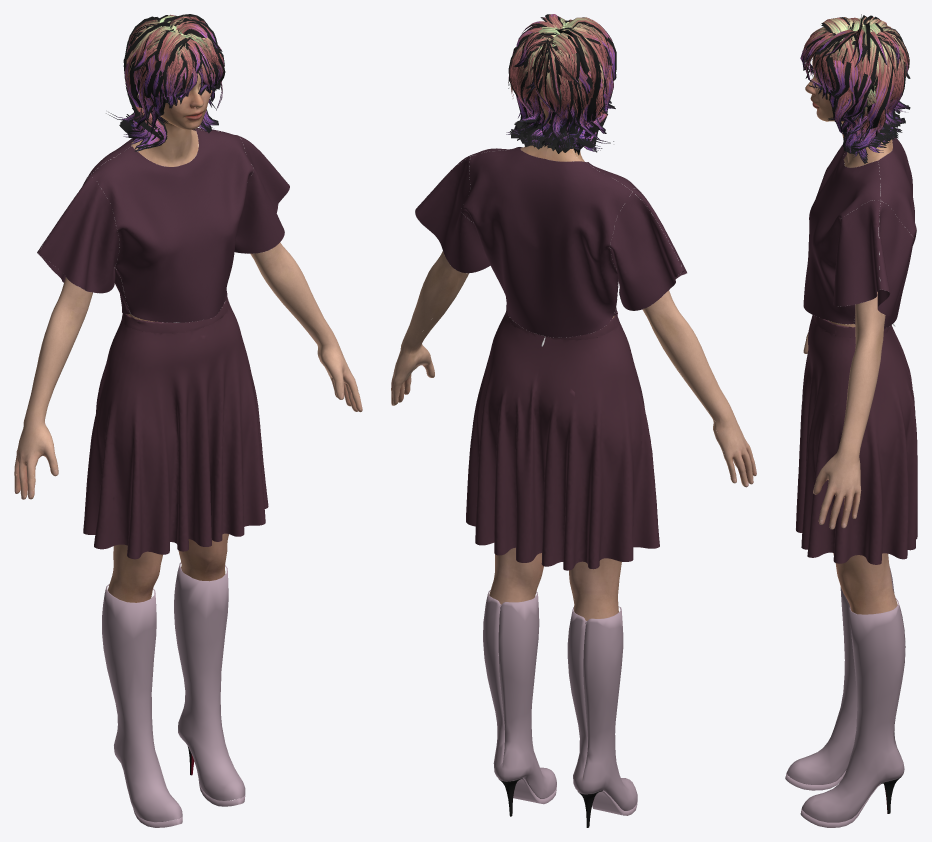
3 views of the same model, side by side, from view 1: azimuth 30°, elevation 25°; view 2: azimuth 150°, elevation 25°; view 3: azimuth 270°, elevation 25° (orthographic). The views are drawn at different scales.
Parts seen in each view (by area): view 1: Cloth, Avatar; view 2: Cloth, Avatar; view 3: Cloth, Avatar.
Boxes of the visible parts, <box> form: Cloth: <box>37,128,289,559</box>; Avatar: <box>14,14,362,827</box>; Cloth: <box>415,147,686,570</box>; Avatar: <box>391,14,756,827</box>; Cloth: <box>796,138,917,564</box>; Avatar: <box>785,14,910,827</box>.
Bounding box in the file's own units: 0.7799 × 1.69 × 0.2603.
Materials: 15 (14 with a texture image).
